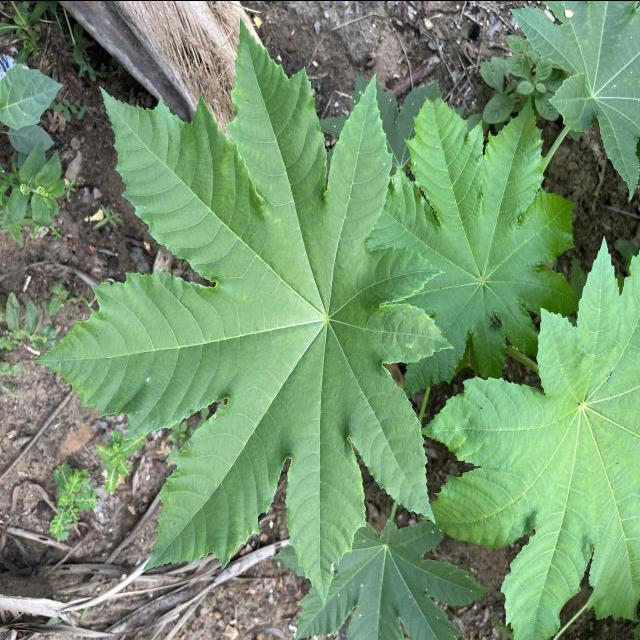Ricinus communis linn: (31, 6, 461, 616), (362, 88, 580, 402)
